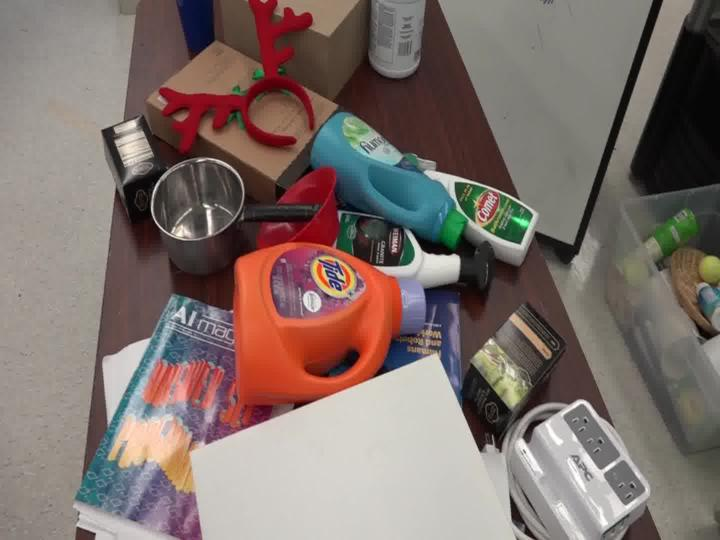downy: (286, 85, 474, 267)
